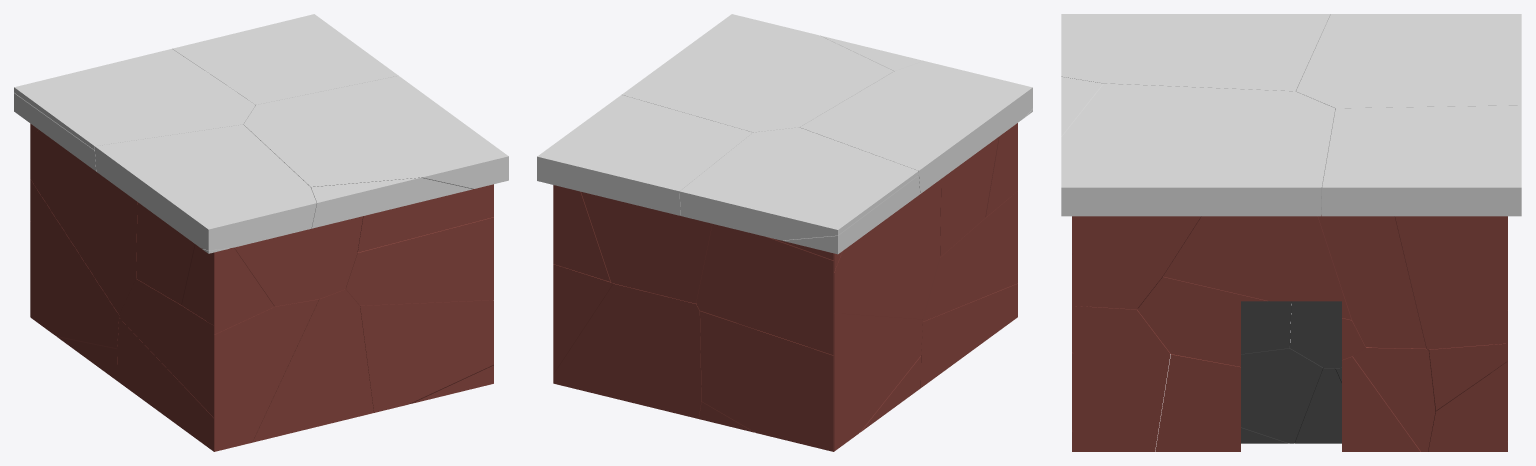
The model's file is roof02_A,B,Cx.fbx.
The picture shows the model from 3 angles, left to right: view 1: azimuth 30°, elevation 25°; view 2: azimuth 150°, elevation 25°; view 3: azimuth 270°, elevation 25°; orthographic projection. The views are drawn at different scales.
Visible parts, largest first — view 1: rooof02_B_cell.004, rooof02_B_cell, rooof02_B_cell.002, wall05_B.001_cell.003, rooof02_B_cell.006, wall05_B.001_cell.001, wall05_B.002_cell.006, wall05_B.001_cell.006, wall05_B.001_cell, wall05_B.002_cell.001, wall05_B.001_cell.007, wall05_B.002_cell (+9 smaller); view 2: rooof02_B_cell.004, rooof02_B_cell.002, rooof02_B_cell, rooof02_B_cell.006, wall05_B_cell.006, wall05_B_cell.002, wall05_B_cell.001, wall05_B.002_cell.006, wall05_B_cell.005, wall05_B.002_cell.001, wall05_B.002_cell, wall05_B.002_cell.003 (+8 smaller); view 3: rooof02_B_cell.004, rooof02_B_cell.006, rooof02_B_cell.002, rooof02_B_cell, wall05_B.003_cell.014, wall05_B.003_cell, wall05_B.003_cell.007, wall05_B.003_cell.008, wall05_B.003_cell.002, wall05_B.003_cell.004, wall05_B.003_cell.005, door02_B_cell (+9 smaller).
Boxes of the visible parts, x1,y1,x2,y2 form: rooof02_B_cell.004: (243,76,508,188); rooof02_B_cell: (95,124,316,250); rooof02_B_cell.002: (14,49,255,150); wall05_B.001_cell.003: (360,300,493,412); rooof02_B_cell.006: (172,14,398,105); wall05_B.001_cell.001: (252,289,373,442); wall05_B.002_cell.006: (30,130,137,314); wall05_B.001_cell.006: (345,217,493,305); wall05_B.001_cell: (214,299,318,451); wall05_B.002_cell.001: (30,180,118,348); wall05_B.001_cell.007: (234,216,363,306); wall05_B.002_cell: (119,279,213,417); rooof02_B_cell.004: (622,14,893,132); rooof02_B_cell.002: (679,127,918,240); rooof02_B_cell: (800,61,1032,193); rooof02_B_cell.006: (537,95,752,215); wall05_B_cell.006: (553,283,701,418); wall05_B_cell.002: (700,311,833,451); wall05_B_cell.001: (696,224,840,355); wall05_B.002_cell.006: (834,179,941,319); wall05_B_cell.005: (581,192,712,303); wall05_B.002_cell.001: (834,313,922,451); wall05_B.002_cell: (922,191,1017,321); wall05_B.002_cell.003: (920,283,1017,387); rooof02_B_cell.004: (1061,83,1335,216); rooof02_B_cell.006: (1321,105,1521,216); rooof02_B_cell.002: (1296,14,1521,109); rooof02_B_cell: (1061,14,1330,91); wall05_B.003_cell.014: (1394,216,1507,349); wall05_B.003_cell: (1073,306,1170,451); wall05_B.003_cell.007: (1163,216,1351,319); wall05_B.003_cell.008: (1318,215,1426,348); wall05_B.003_cell.002: (1073,216,1201,309); wall05_B.003_cell.004: (1155,354,1240,451); wall05_B.003_cell.005: (1137,276,1267,366); door02_B_cell: (1241,346,1322,443).
Size of the model in its own units: 221 by 161 by 248.
